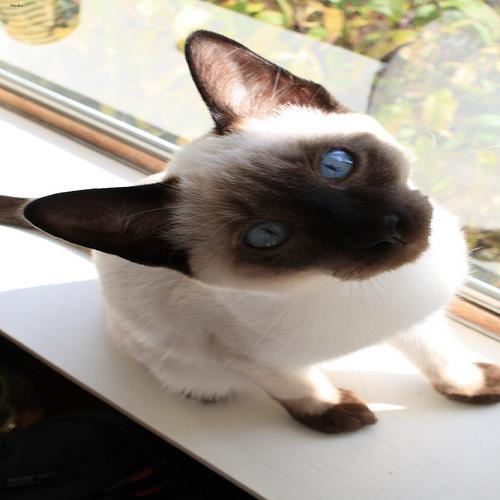siamese: (27, 21, 460, 312)
